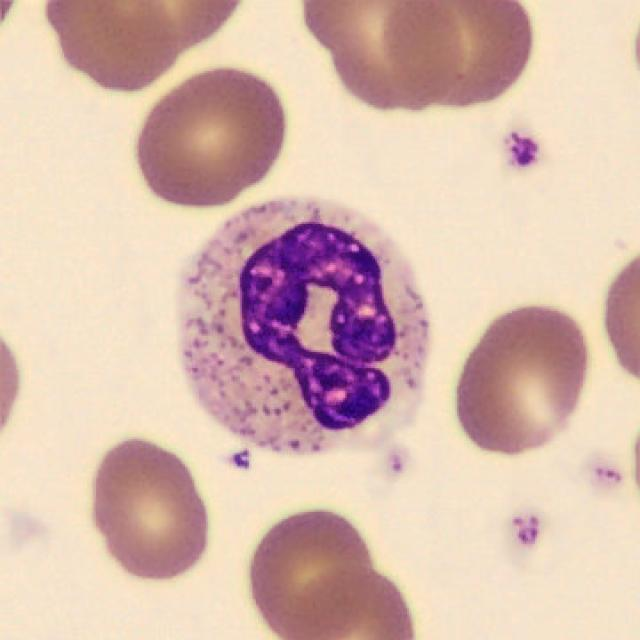Neutrofilo segmentado: (178, 199, 430, 459)
